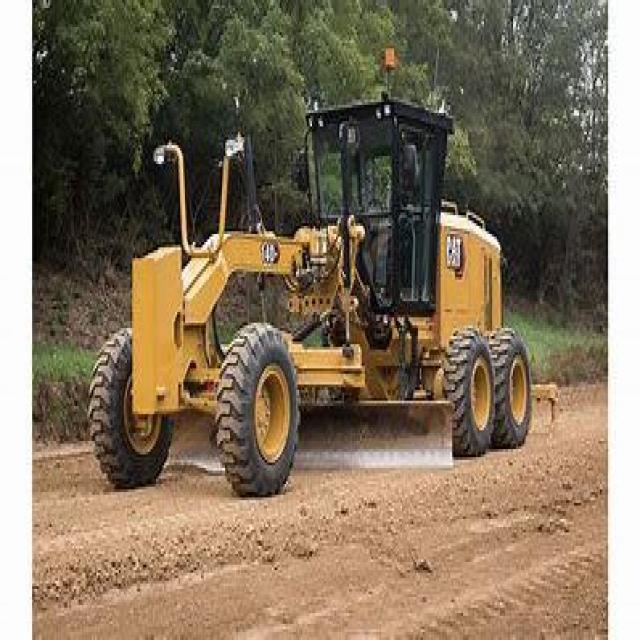Grader: (74, 80, 547, 498)
